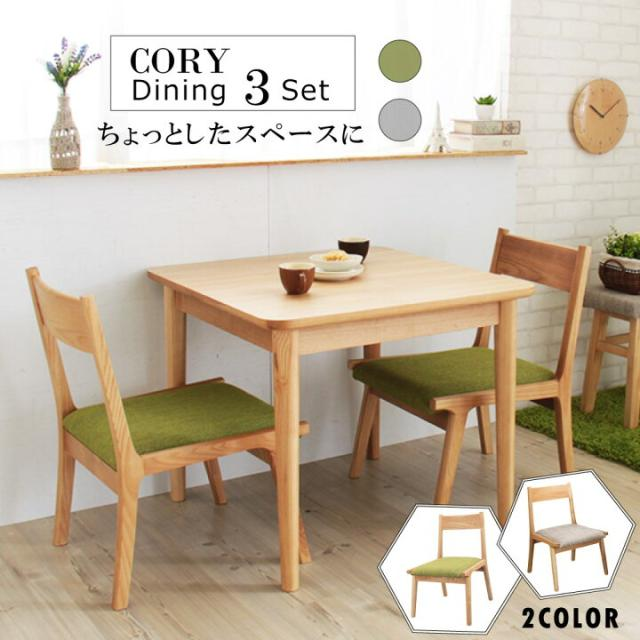natural chair: (24, 264, 260, 602), (380, 225, 593, 523)
natural desk: (144, 239, 526, 518)
